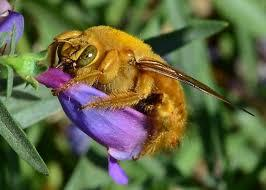Xylocopa: (36, 11, 221, 156)
